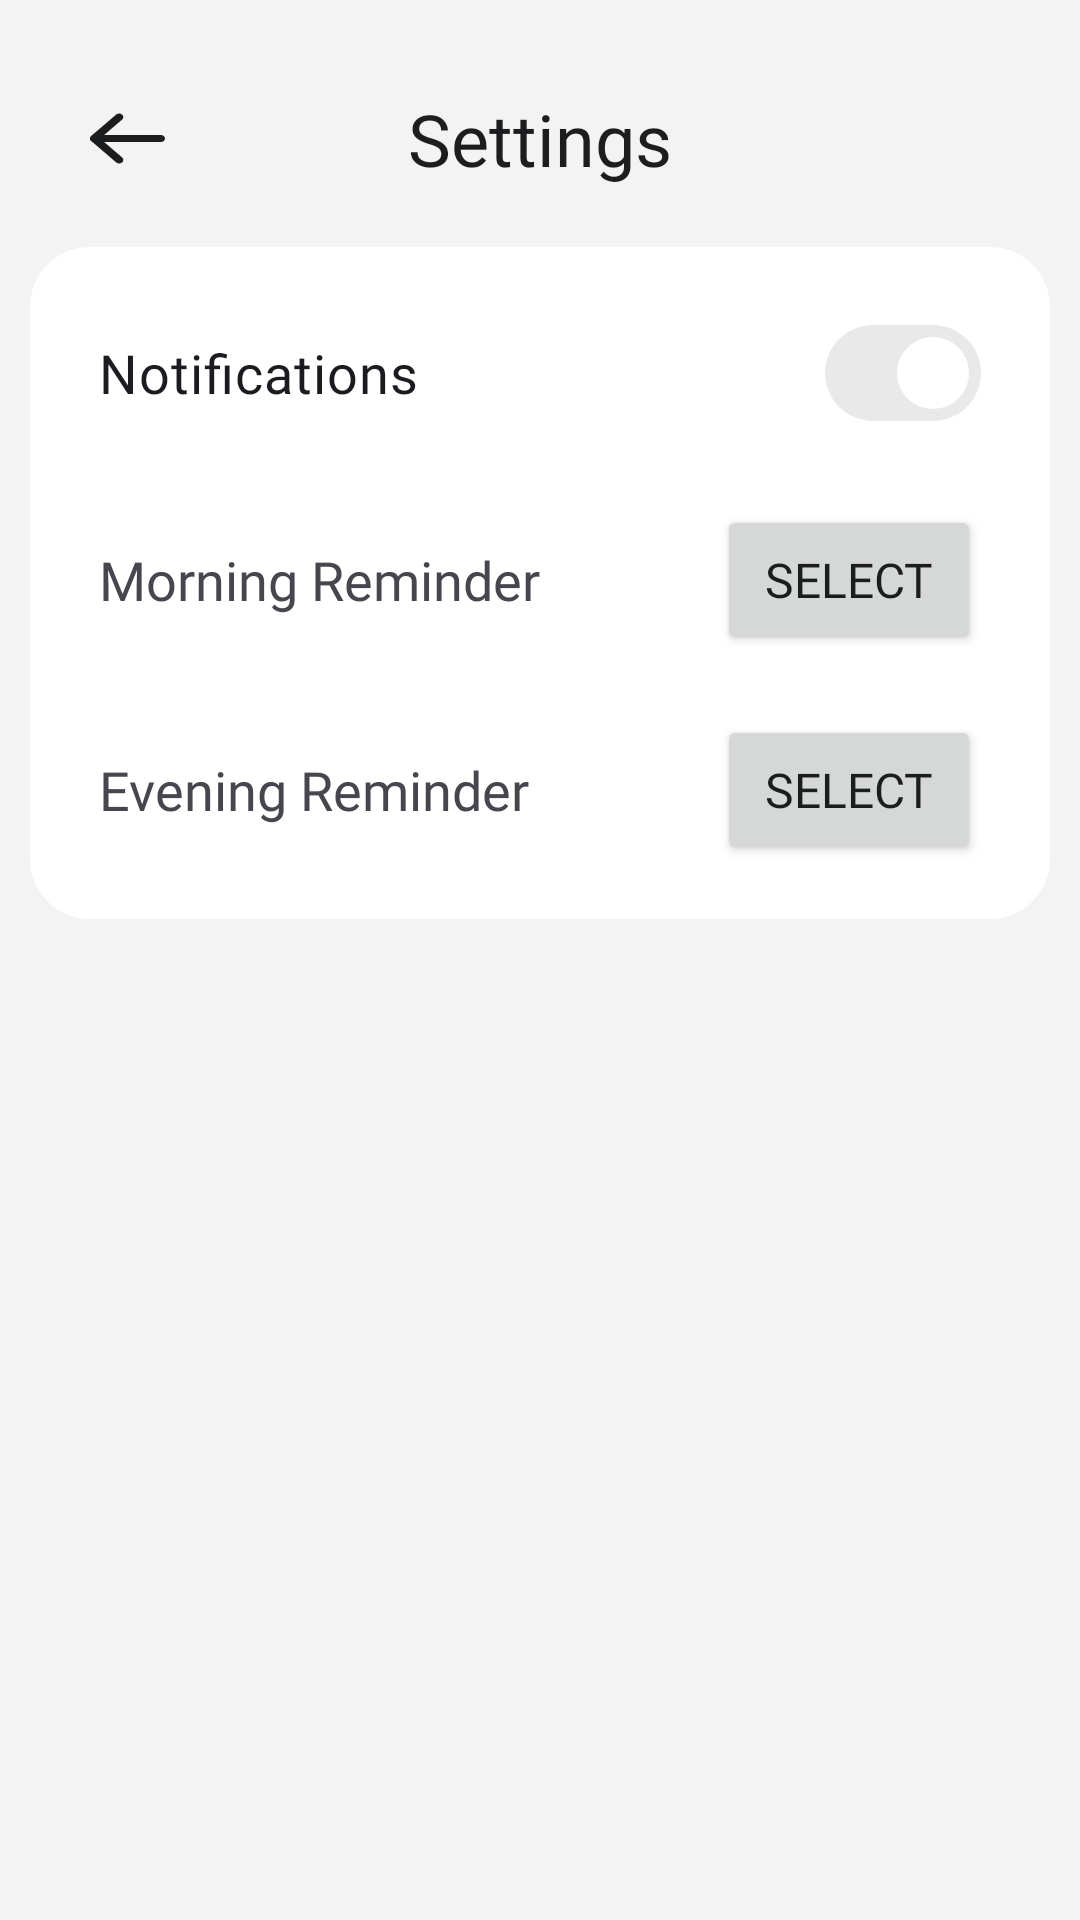

Icons on this 1080×1920 Android screen, each with its box as box=[x1, y1, x2, y2]:
back: box=[90, 113, 165, 164]
